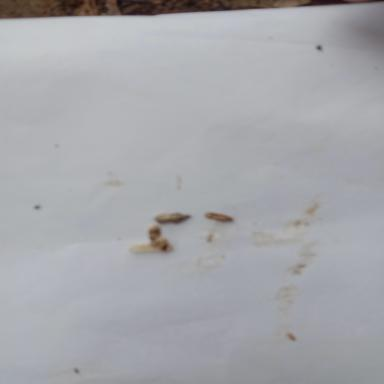pbw: (206, 212, 233, 222)
